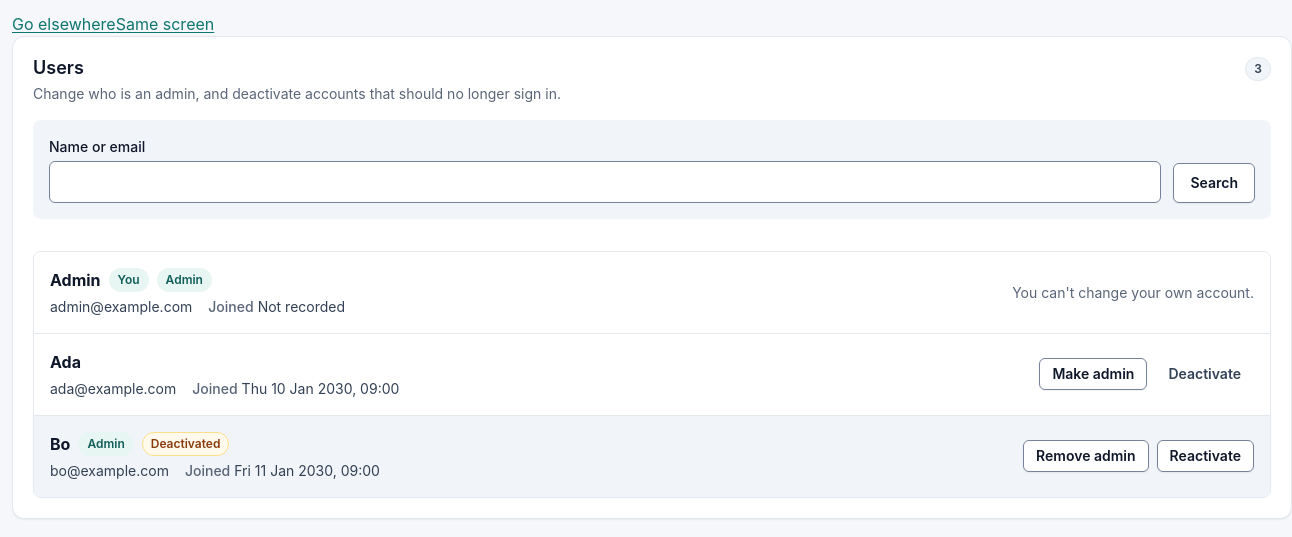
Test: AdminUsersPage › searches by name or email, keeping the search in the address
Step 1. Type " ada " into the search field labelled "Name or email" → point(605, 182), box [49, 161, 1162, 203]
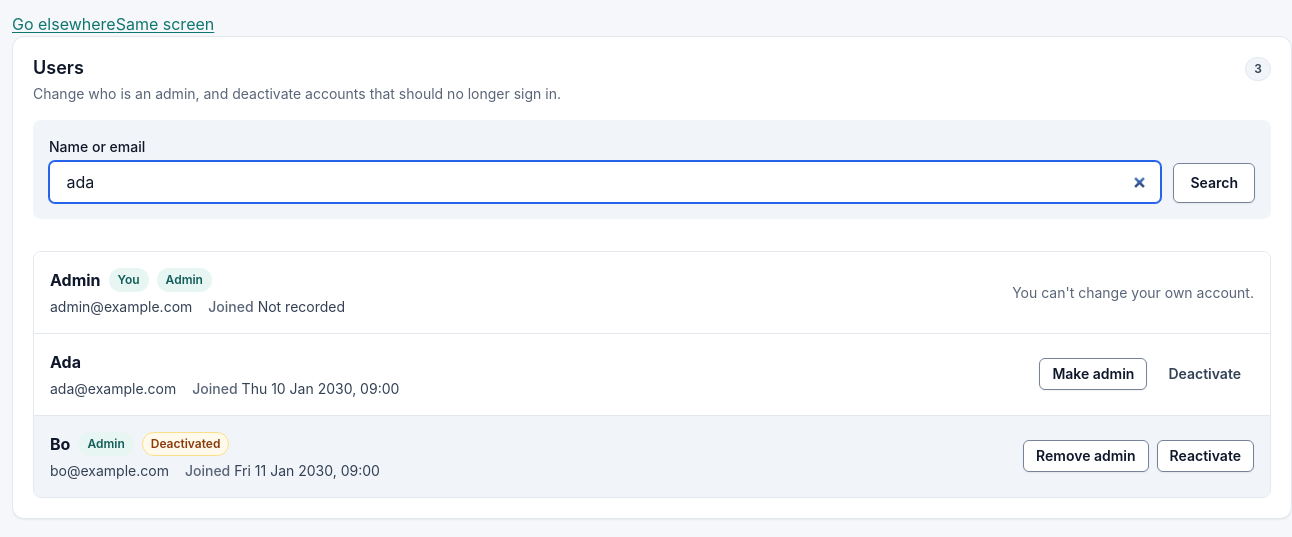
Step 2. Click the button "Search" → point(1214, 183), box [1174, 163, 1255, 203]
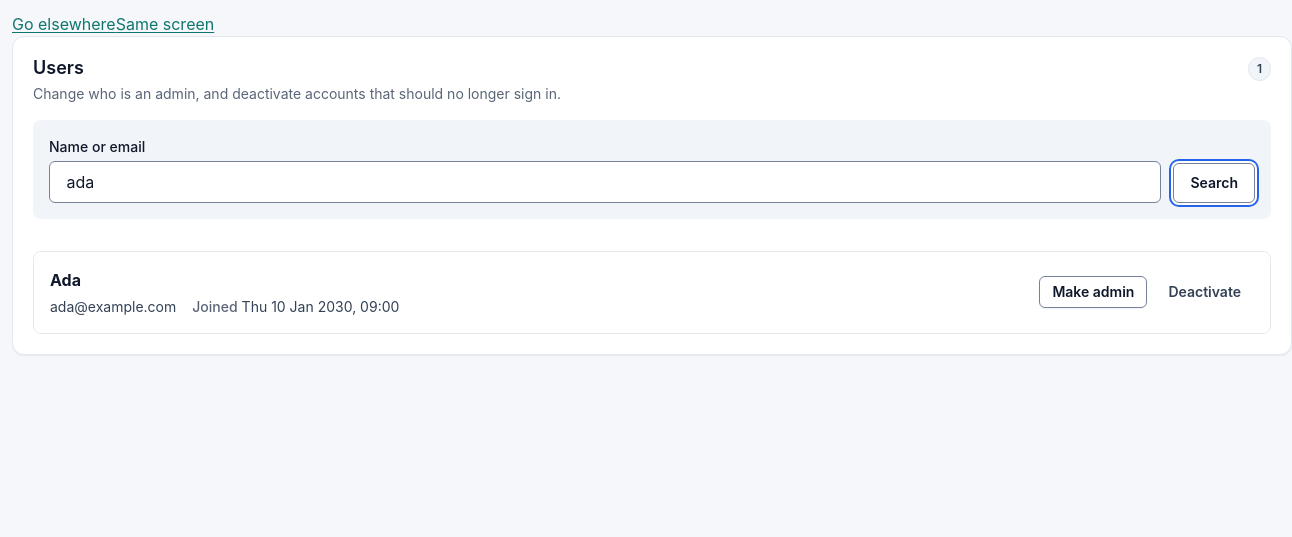
Expected: the text "Bo" is gone
